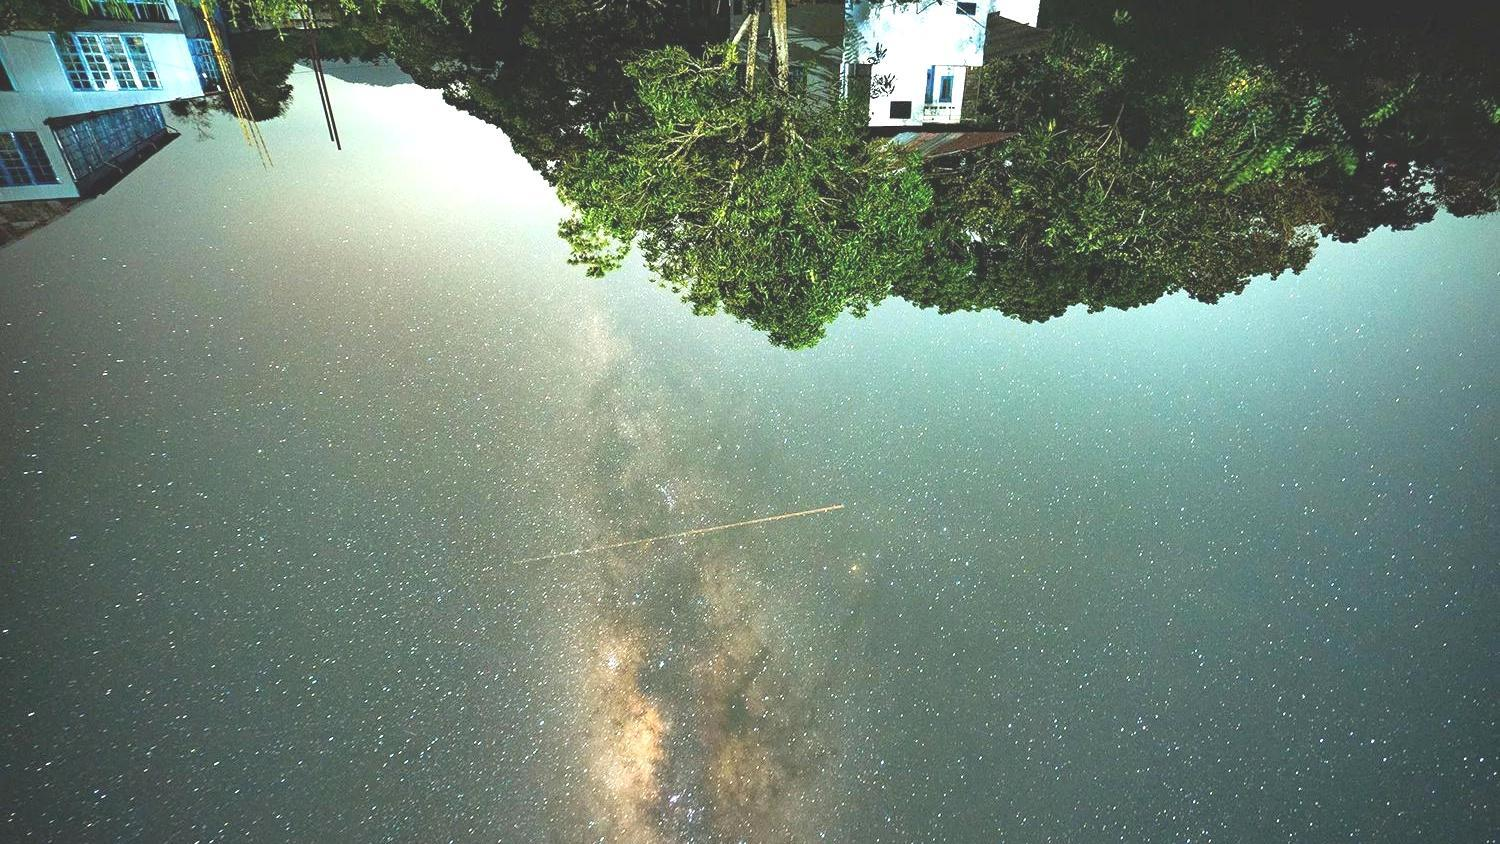meteorite: (652, 499, 862, 543)
